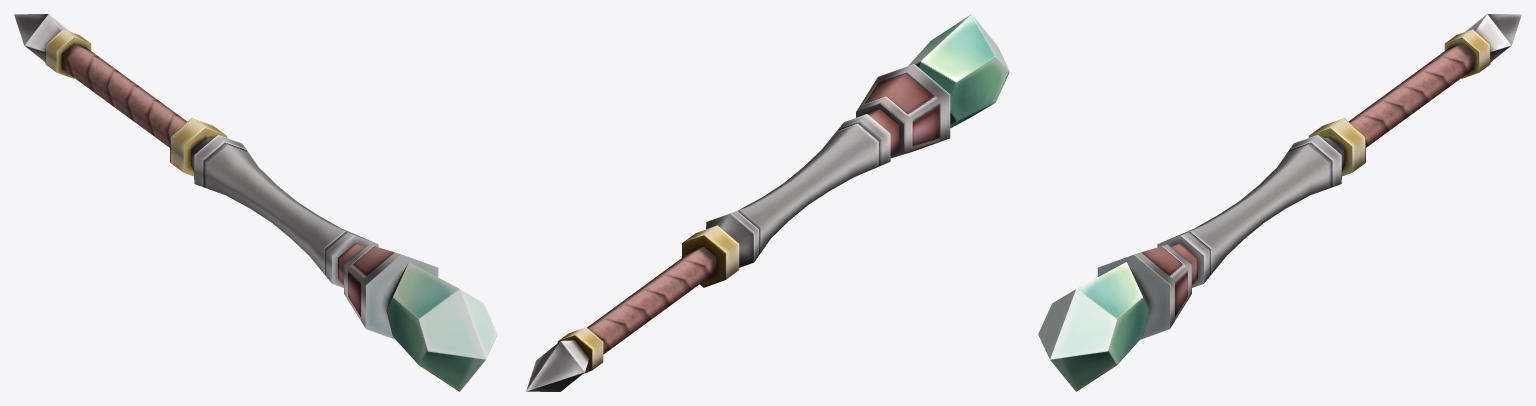
The picture shows the model from 3 angles, left to right: view 1: azimuth 30°, elevation 25°; view 2: azimuth 150°, elevation 25°; view 3: azimuth 330°, elevation 25°; orthographic projection.
Parts seen in each view (by area): view 1: mWand; view 2: mWand; view 3: mWand.
Boxes of the visible parts, bbox=[...] form: mWand: bbox=[14, 14, 497, 391]; mWand: bbox=[526, 14, 1009, 391]; mWand: bbox=[1038, 14, 1521, 391].
Bounding box in the file's own units: 0.0867 × 0.1178 × 0.9784.
1 material, 1 textured.
